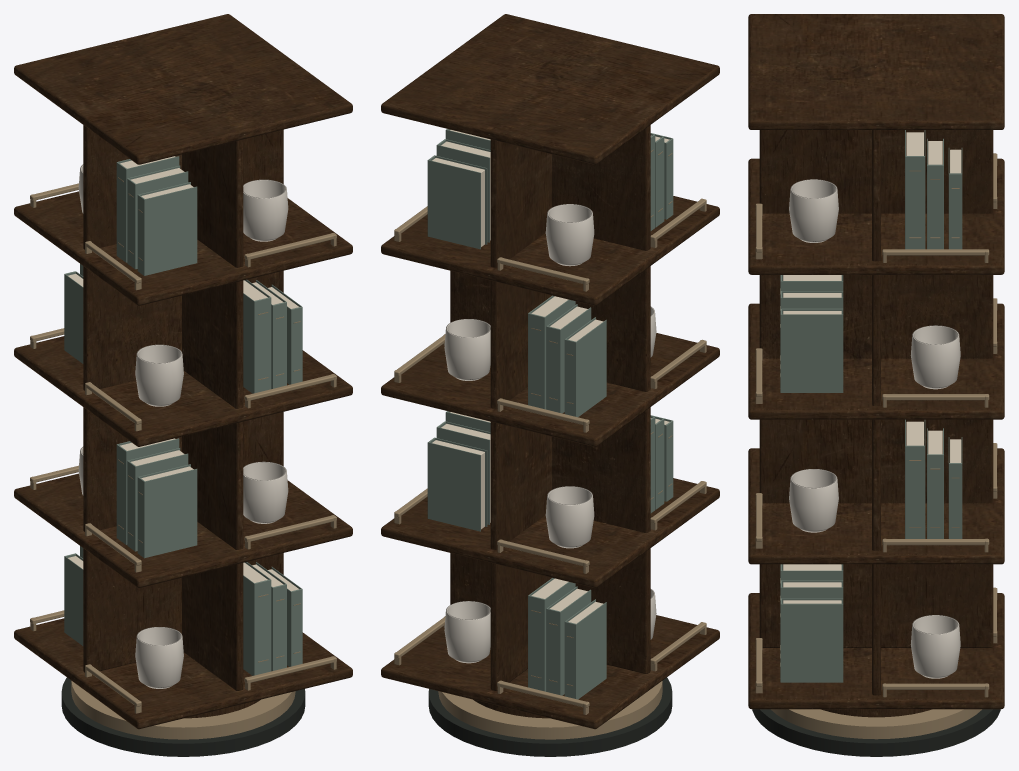
File: crafted-rotating-book-tower.glb
3 renders of one model, left to right at view 1: azimuth 30°, elevation 25°; view 2: azimuth 150°, elevation 25°; view 3: azimuth 270°, elevation 25°, orthographic. The views are drawn at different scales.
Parts seen in each view (by area): view 1: walnut_surfaces, binding_surfaces, bronze_surfaces, ceramic_surfaces, dark_surfaces, paper_surfaces; view 2: walnut_surfaces, binding_surfaces, bronze_surfaces, ceramic_surfaces, dark_surfaces, paper_surfaces; view 3: walnut_surfaces, binding_surfaces, ceramic_surfaces, bronze_surfaces, dark_surfaces, paper_surfaces.
Boxes of the visible parts, x1,y1,x2,y2 form: walnut_surfaces: (14, 14, 352, 729); binding_surfaces: (64, 156, 302, 675); bronze_surfaces: (30, 177, 336, 739); ceramic_surfaces: (78, 164, 288, 688); dark_surfaces: (61, 677, 305, 756); paper_surfaces: (68, 156, 298, 591); walnut_surfaces: (381, 14, 719, 729); binding_surfaces: (427, 129, 673, 699); bronze_surfaces: (394, 150, 706, 739); ceramic_surfaces: (444, 204, 656, 663); dark_surfaces: (428, 677, 672, 756); paper_surfaces: (432, 130, 669, 623); walnut_surfaces: (748, 14, 1004, 717); binding_surfaces: (780, 130, 962, 682); ceramic_surfaces: (789, 179, 960, 678); bronze_surfaces: (755, 153, 997, 739); dark_surfaces: (752, 709, 1000, 756); paper_surfaces: (783, 132, 961, 603).
Size of the model in its own units: 0.635 by 1.74 by 0.635.
6 materials, 1 textured.
